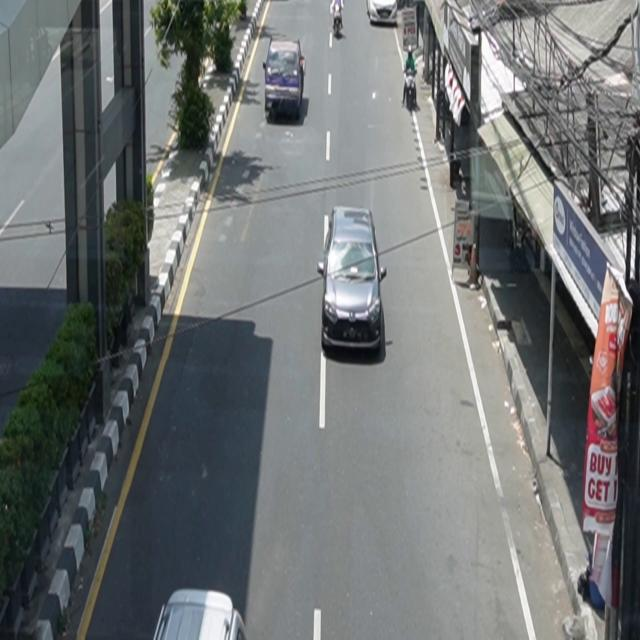car: (318, 205, 388, 355), (153, 589, 249, 640), (264, 38, 307, 120), (366, 1, 398, 26)
